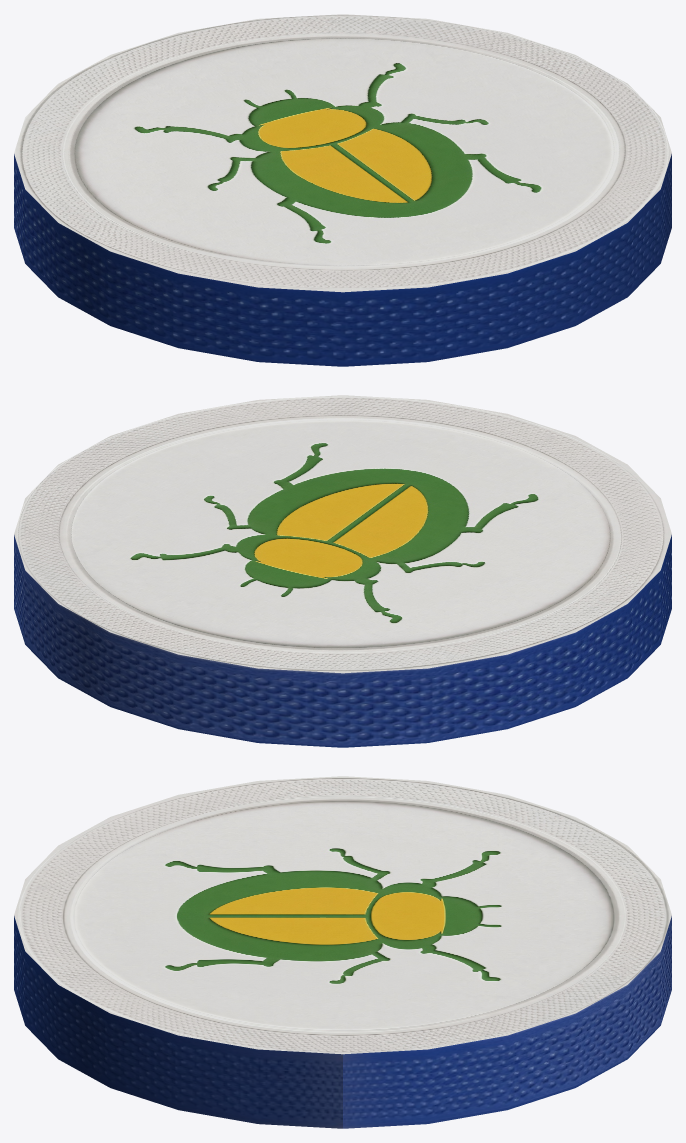
The model's file is white-checker.glb.
The picture shows the model from 3 angles, top to bottom: view 1: azimuth 30°, elevation 25°; view 2: azimuth 150°, elevation 25°; view 3: azimuth 270°, elevation 25°; orthographic projection.
Parts seen in each view (by area): view 1: White beetle checker | 40mm x 5mm | 92 tris; view 2: White beetle checker | 40mm x 5mm | 92 tris; view 3: White beetle checker | 40mm x 5mm | 92 tris.
Part boxes in pixels (box(x1,y1,x2,y2)): White beetle checker | 40mm x 5mm | 92 tris: box(14, 14, 671, 366); White beetle checker | 40mm x 5mm | 92 tris: box(14, 395, 671, 747); White beetle checker | 40mm x 5mm | 92 tris: box(14, 776, 671, 1128).
Size of the model in its own units: 0.04 by 0.005 by 0.04.
3 materials, 2 textured.
